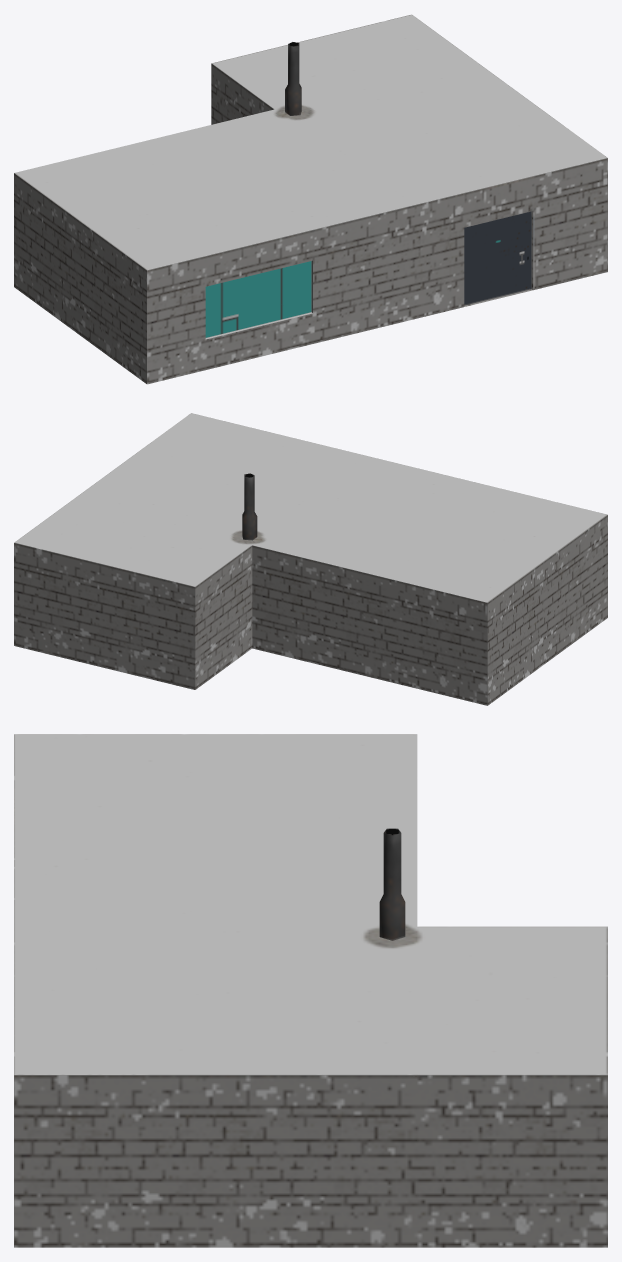
Rendered from kpp_win.glb.
3 views of the same model, one above another, from view 1: azimuth 30°, elevation 25°; view 2: azimuth 150°, elevation 25°; view 3: azimuth 270°, elevation 25° (orthographic). The views are drawn at different scales.
Parts seen in each view (by area): view 1: Box001; view 2: Box001; view 3: Box001.
Boxes of the visible parts, <box> form: Box001: <box>14,14,607,384</box>; Box001: <box>14,413,607,705</box>; Box001: <box>14,734,607,1247</box>.
Size of the model in its own units: 2.03 by 0.7683 by 1.5.
Materials: 1 (1 with a texture image).
